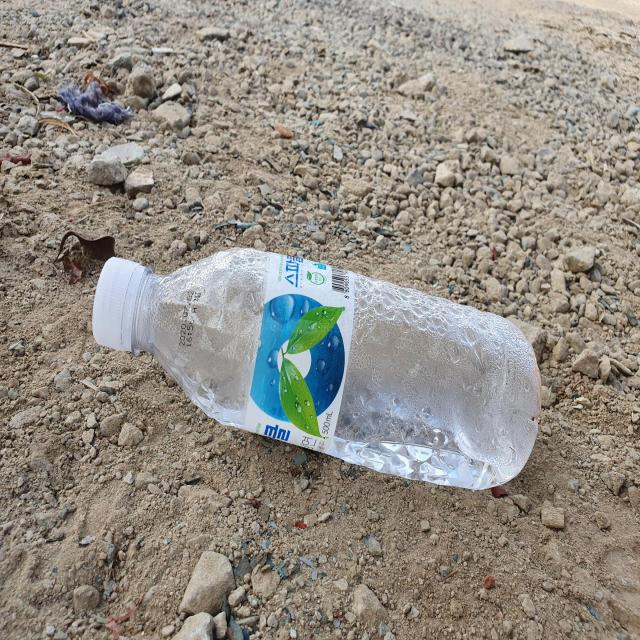plastic: (92, 248, 542, 490)
